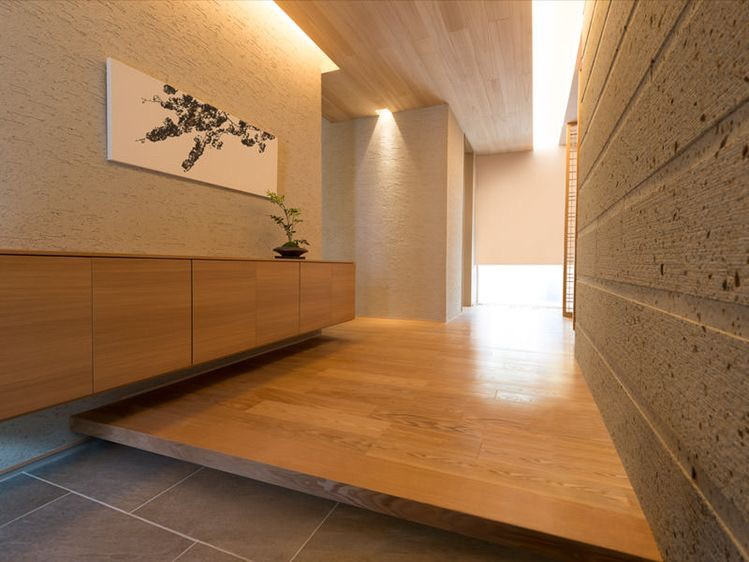floor: (0, 437, 563, 561)
